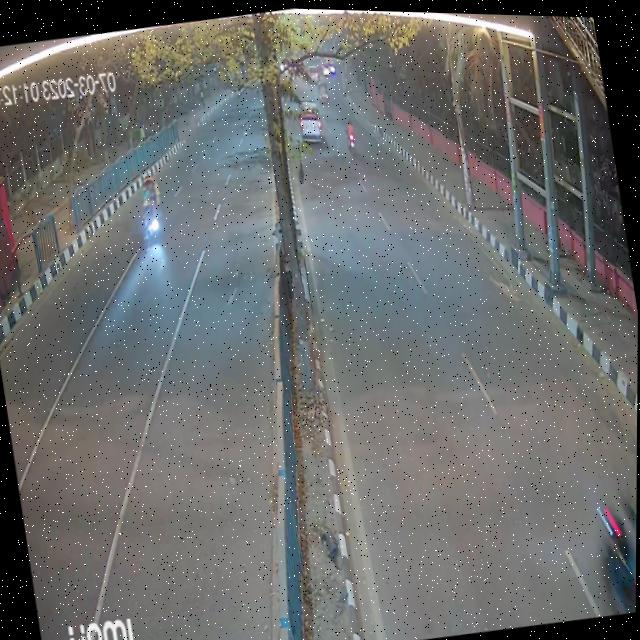rikshaw: (129, 168, 169, 248)
